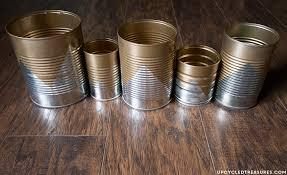Tin: (7, 9, 287, 122)
